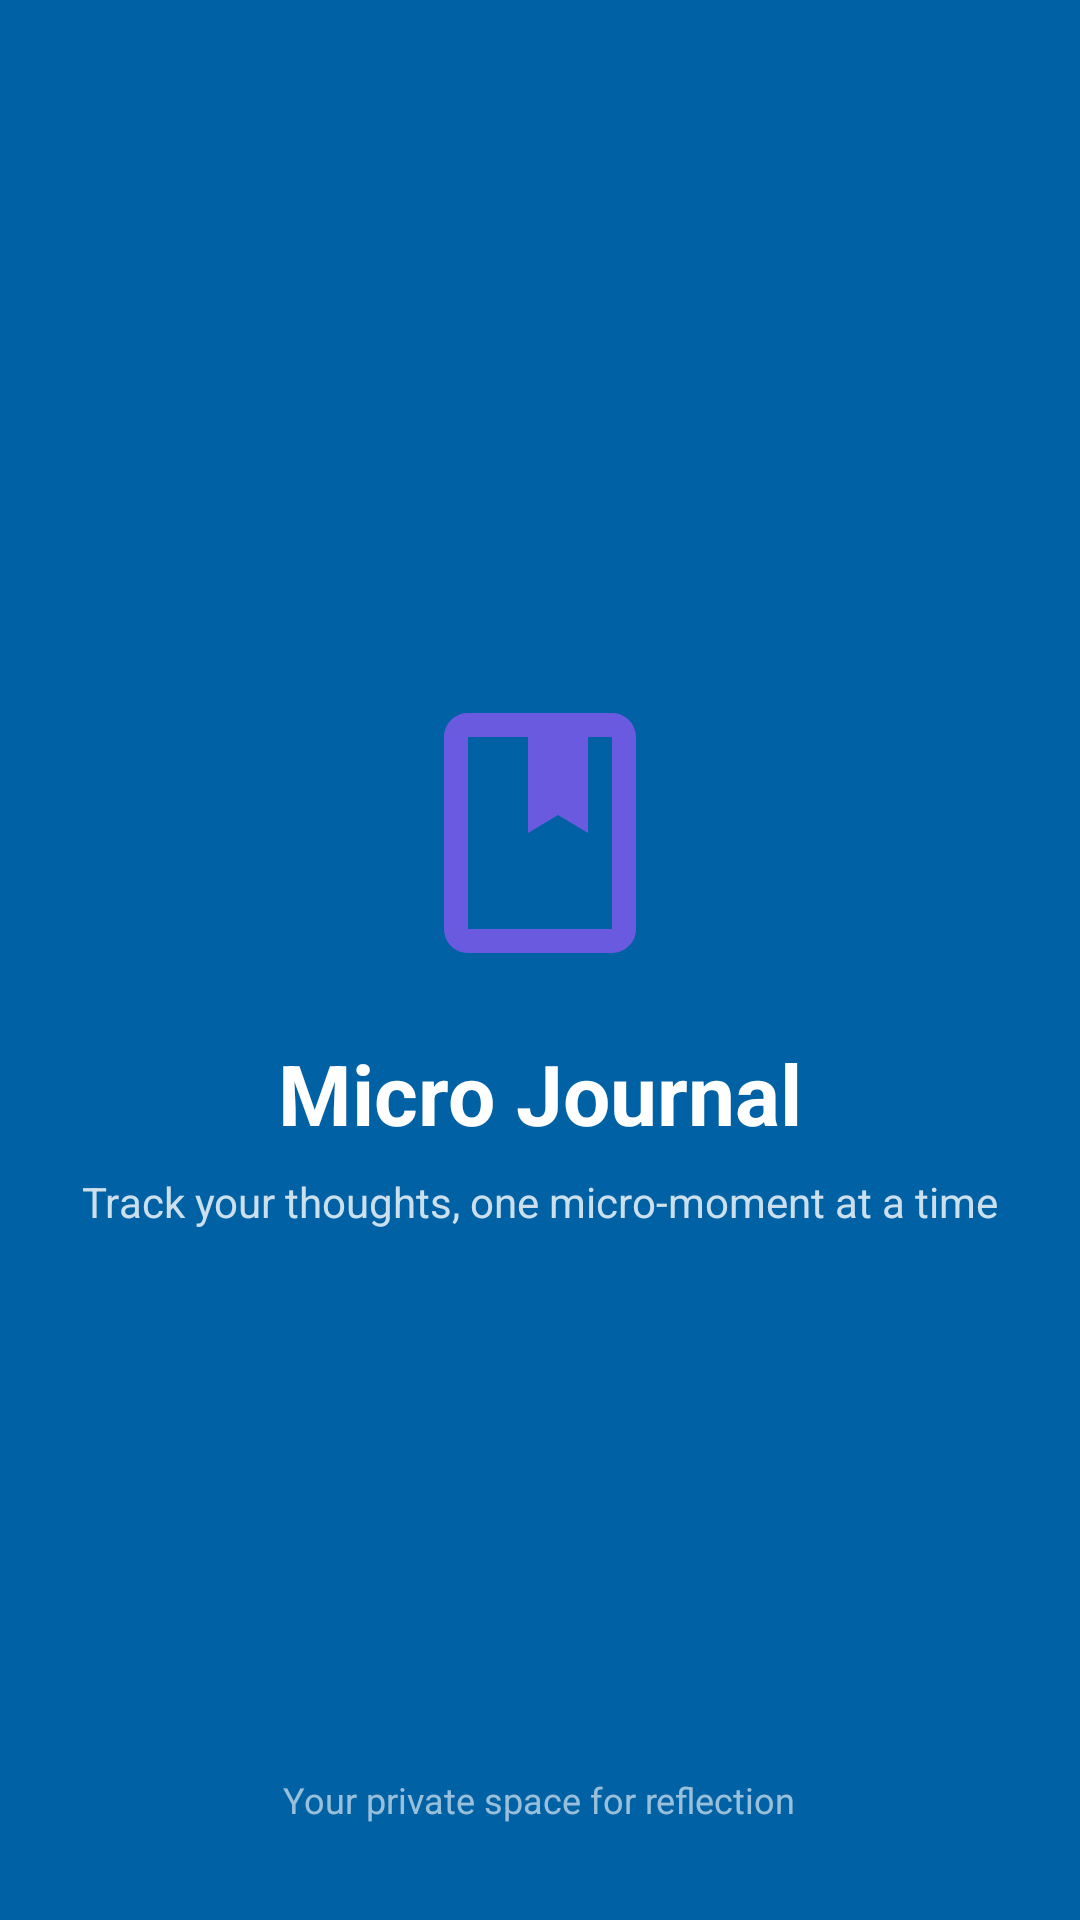

Where to tap for icons on this 1080×1920 app screen, as (x,y):
journal book: (540,833)
